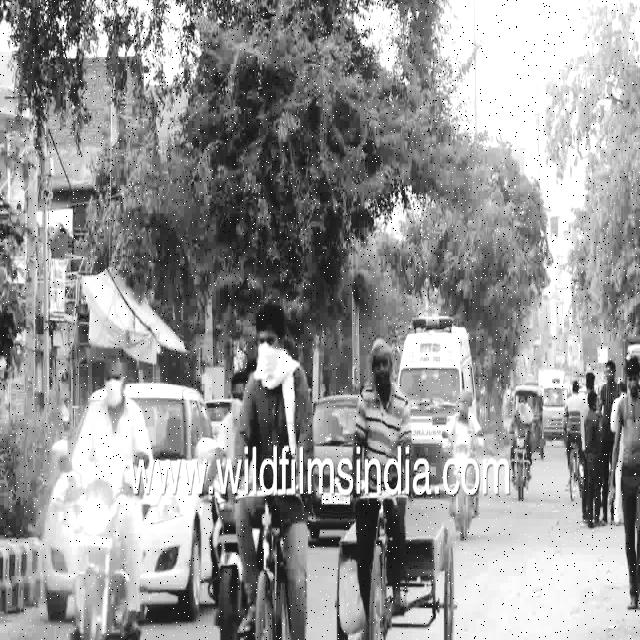Ambulance: (396, 314, 470, 446)
